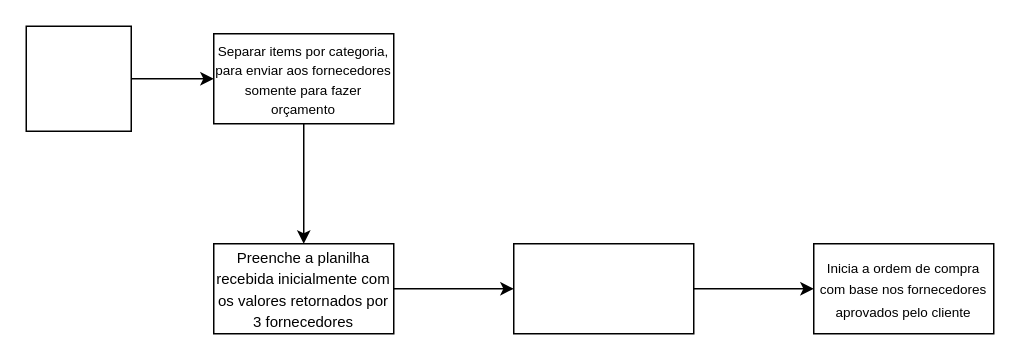
Image size: 1020x360. Some labels were removed from this diagram. Each missing label, with the centre of its shape:
Envia a planilha geral para o cliente aprovar e escolher os fornecedores: [603,288]
Receber planilhas dos items a comprar: [78,78]
